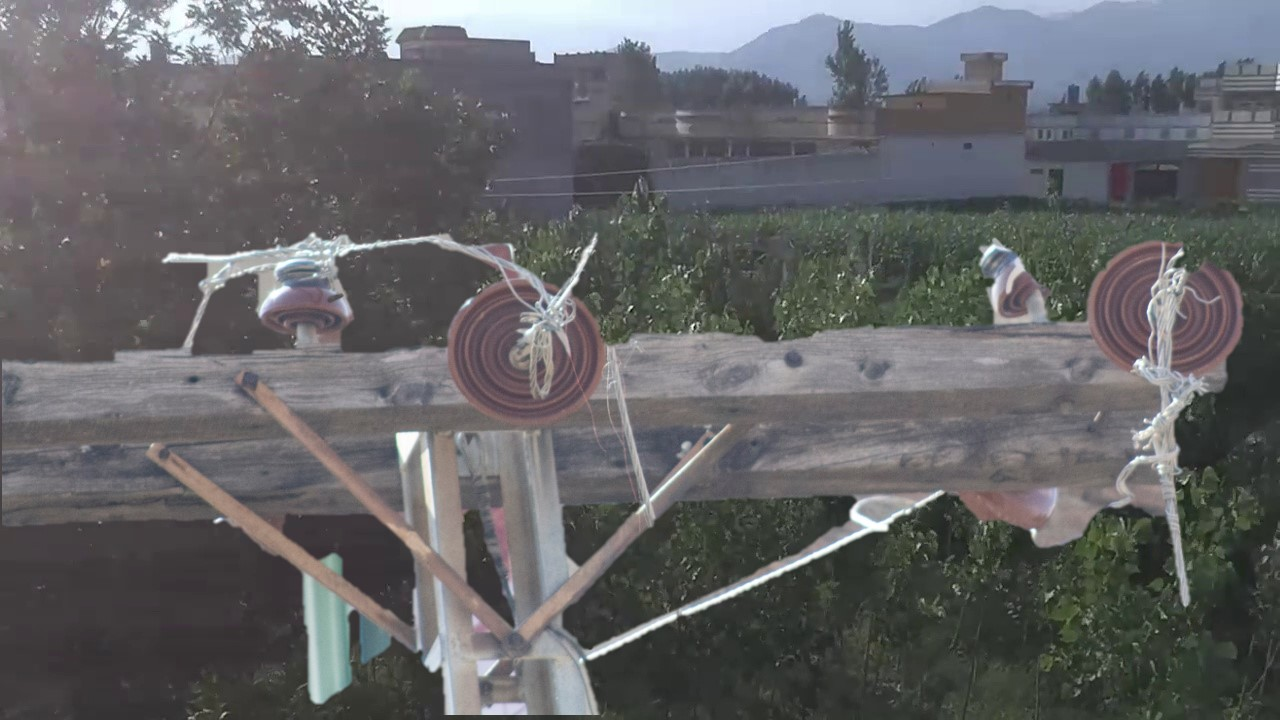defect_pin: (970, 236, 1051, 331)
insulator_disc: (443, 274, 611, 436), (1085, 231, 1248, 381)
insulator_pin: (252, 251, 356, 338)
